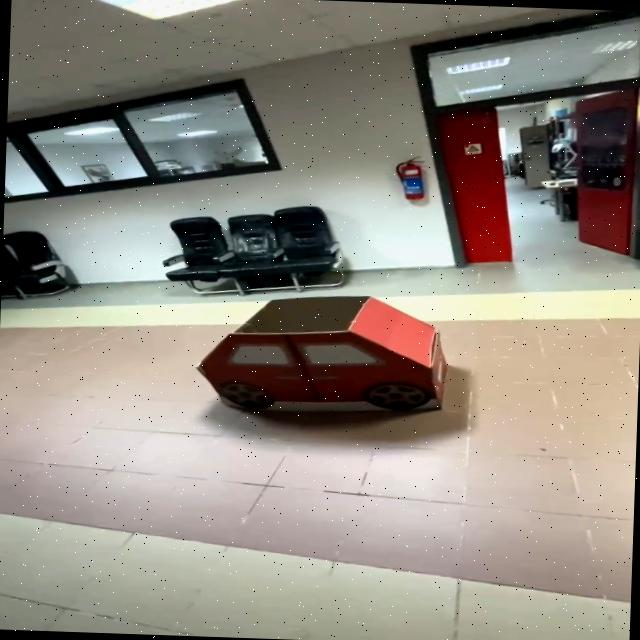red_car: (169, 282, 476, 423)
